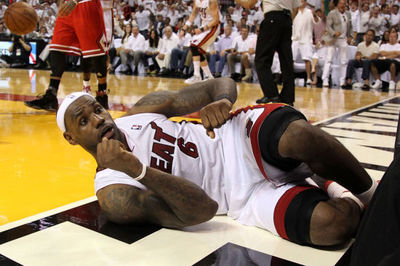10+: (1, 1, 398, 266)
down: (42, 81, 376, 247)
